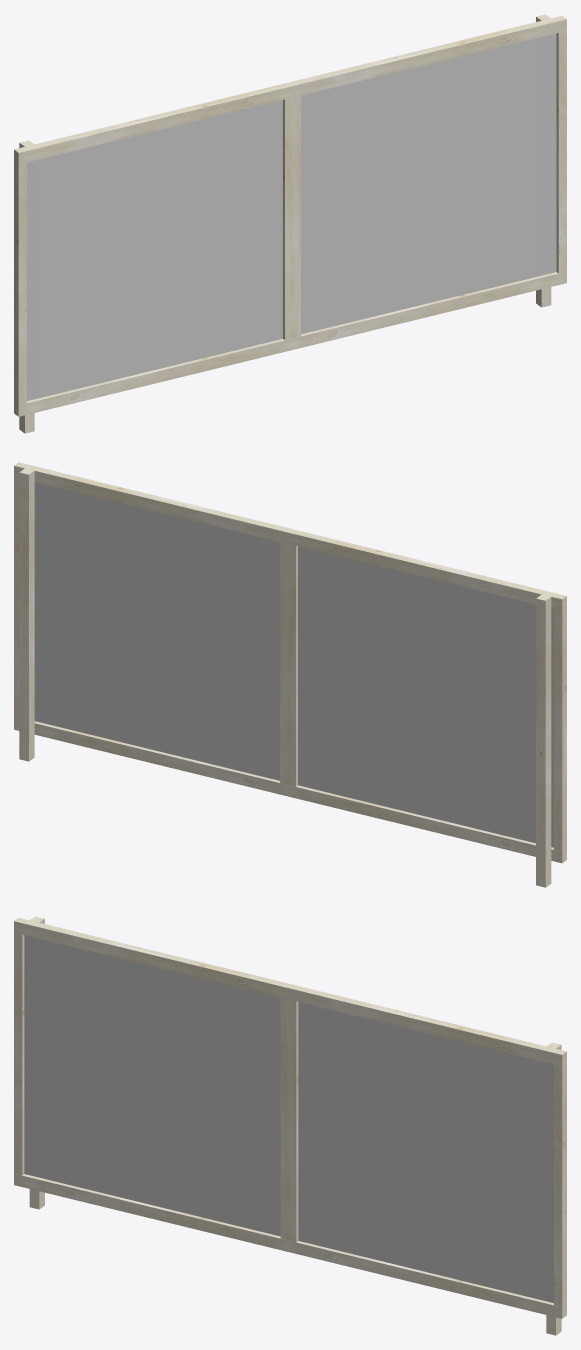
File: EAFpolycadesign_w1998-h920_whitepine.fbx
3 views of the same model, one above another, from view 1: azimuth 30°, elevation 25°; view 2: azimuth 150°, elevation 25°; view 3: azimuth 330°, elevation 25° (orthographic).
Parts seen in each view (by area): view 1: EAFpolycadesign_w1998-h920_whitepine; view 2: EAFpolycadesign_w1998-h920_whitepine; view 3: EAFpolycadesign_w1998-h920_whitepine.
Part boxes in pixels (x1=…): EAFpolycadesign_w1998-h920_whitepine: x1=14, y1=14, x2=566, y2=433; EAFpolycadesign_w1998-h920_whitepine: x1=14, y1=462, x2=566, y2=887; EAFpolycadesign_w1998-h920_whitepine: x1=14, y1=916, x2=566, y2=1335.
Bounding box in the file's own units: 200 × 100 × 6.5.
Materials: 3 (2 with a texture image).
